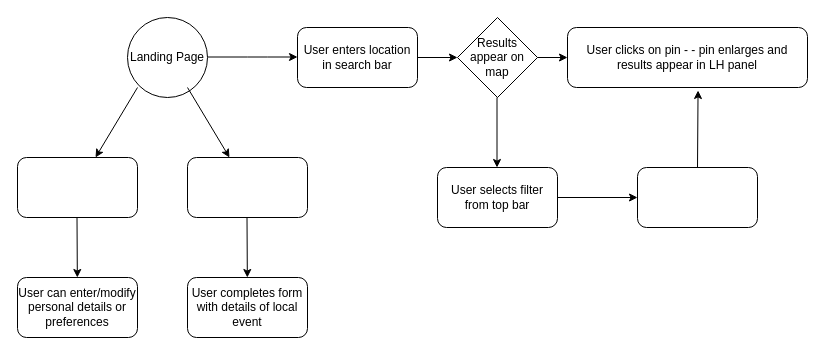
Image size: 825x355. Some labels were removed from this diagram. Each missing label, with the centre of its shape:
"Filtered options appear as blue pins instead of orange" goes at (697,197).
"User clicks 'Add Event'" goes at (247,187).
"User selects Profile/Login in top right corner" goes at (77,187).
